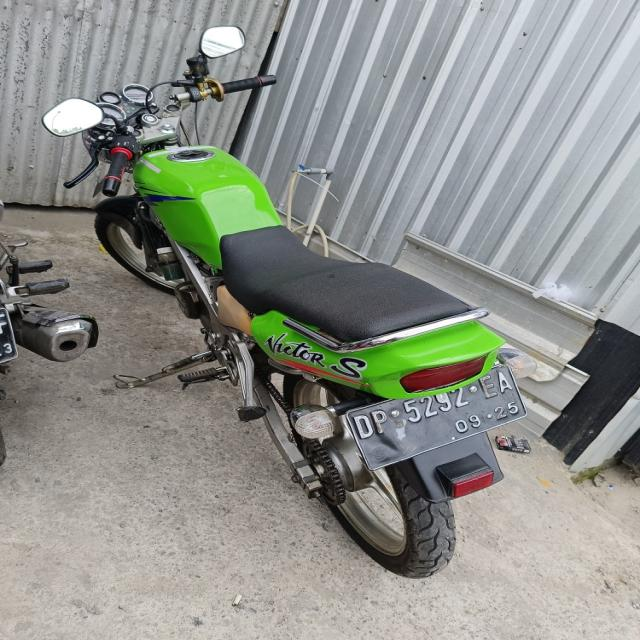plates: (330, 370, 524, 460)
